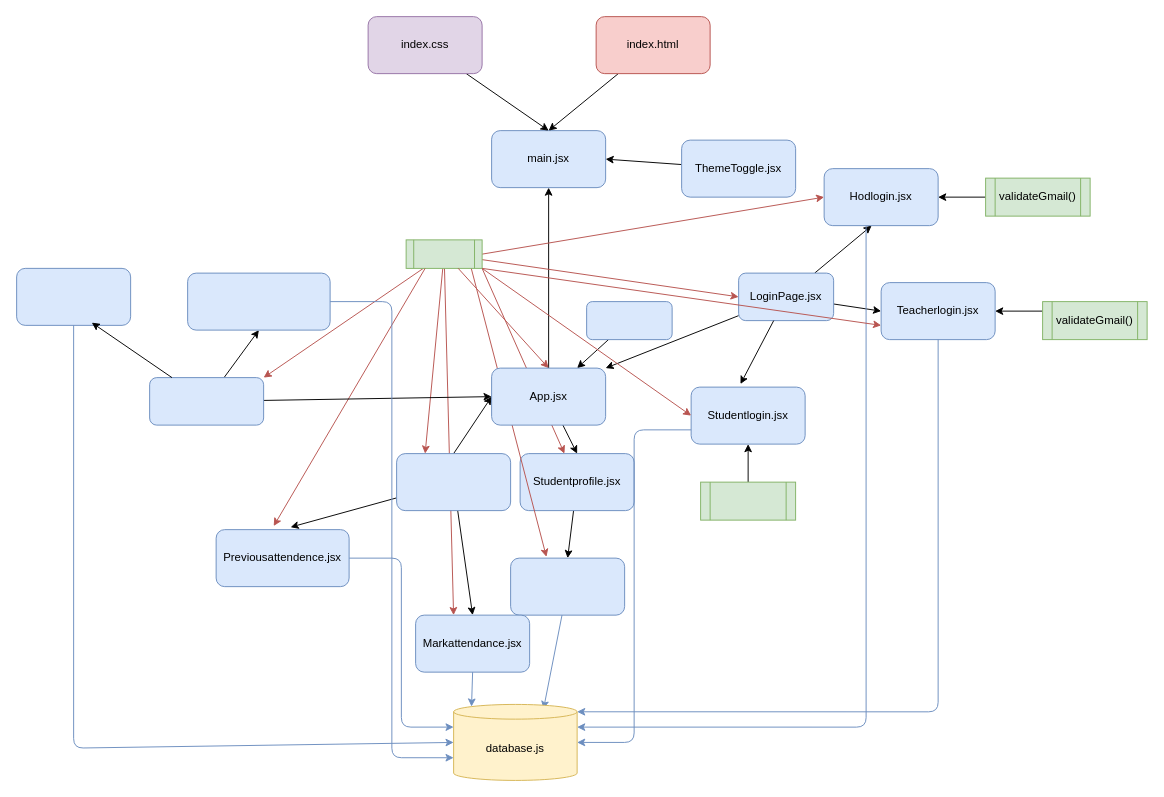
The diagram is 1164 pixels wide and 797 high, and some of its shapes have lost their labels. Each missing label, with the centre of its shape:
Attendancedetails.jsx: point (258, 301)
Header.jsx: point (629, 320)
Hodprofile.jsx: point (206, 401)
Managafaculty.jsx: point (73, 296)
navigate(): point (443, 253)
Subjectdetails.jsx: point (567, 586)
Teacherprofile.jsx: point (453, 482)
validateUsn(): point (748, 500)
